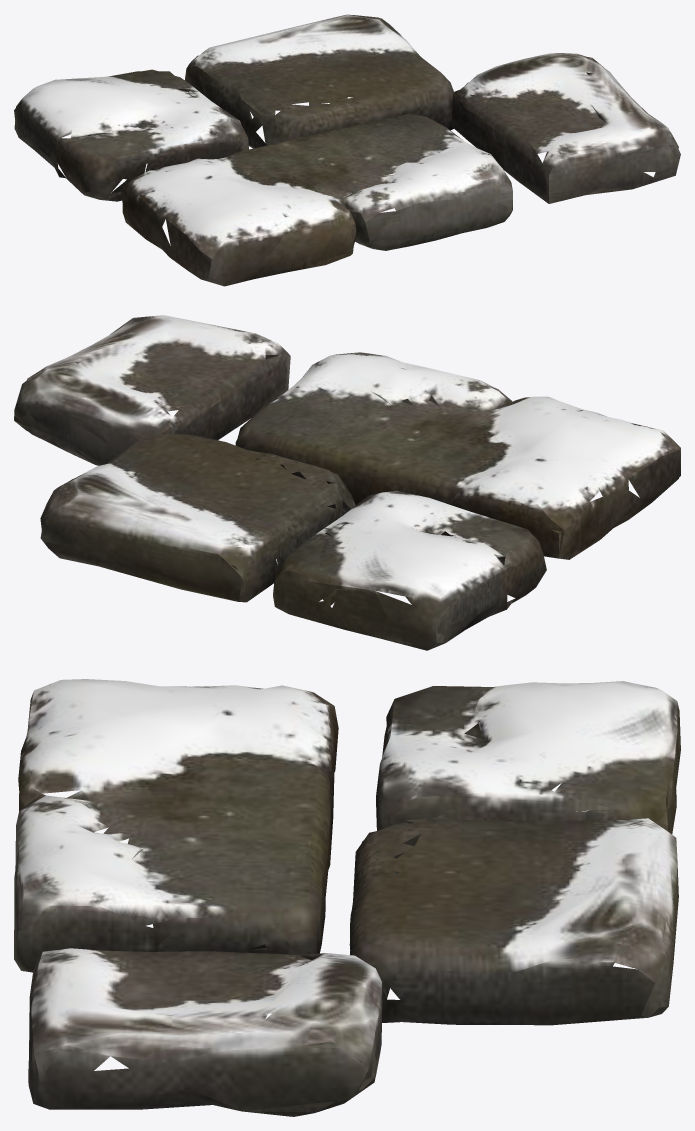
The model's file is stones.glb.
3 views of the same model, one above another, from view 1: azimuth 30°, elevation 25°; view 2: azimuth 150°, elevation 25°; view 3: azimuth 270°, elevation 25° (orthographic). The views are drawn at different scales.
Visible parts, largest first — view 1: stones; view 2: stones; view 3: stones.
Boxes of the visible parts, bbox=[...] form: stones: bbox=[14, 14, 680, 286]; stones: bbox=[14, 315, 680, 650]; stones: bbox=[14, 679, 680, 1116].
Bounding box in the file's own units: 1.22 × 0.14 × 0.9234.
Materials: 1 (1 with a texture image).
